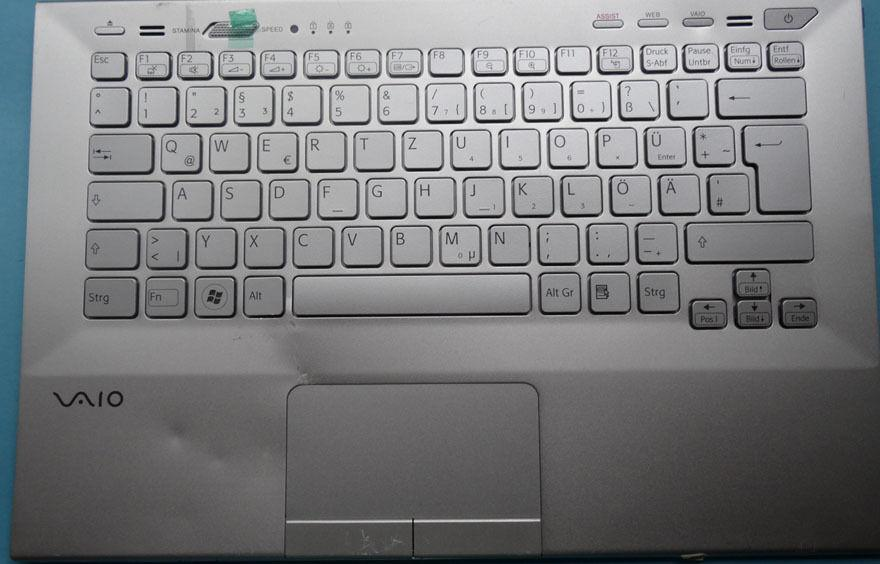0: (567, 76, 609, 117)
1: (134, 83, 175, 123)
2: (182, 82, 224, 123)
3: (229, 82, 271, 122)
4: (278, 81, 319, 122)
5: (326, 81, 367, 121)
6: (374, 80, 415, 120)
7: (423, 80, 465, 120)
8: (470, 79, 512, 119)
9: (518, 77, 560, 119)
a: (168, 177, 210, 218)
accent: (664, 75, 706, 116)
ae: (655, 171, 698, 213)
alt-left: (239, 272, 282, 315)
altgr-right: (536, 269, 580, 312)
b: (386, 222, 429, 264)
c: (289, 223, 331, 265)
caret: (86, 83, 126, 123)
comma: (534, 220, 577, 262)
d: (265, 175, 307, 217)
del: (714, 73, 804, 115)
e: (254, 129, 296, 170)
enter: (739, 121, 809, 210)
f: (314, 175, 356, 217)
g: (362, 174, 404, 216)
h: (411, 174, 452, 215)
hash: (705, 170, 747, 212)
i: (496, 125, 538, 166)
j: (460, 173, 502, 215)
k: (509, 172, 551, 214)
keyboard: (51, 14, 837, 334)
l: (558, 171, 600, 213)
less: (142, 224, 185, 267)
m: (435, 221, 479, 264)
minus: (632, 219, 676, 261)
n: (485, 220, 527, 263)
o: (544, 124, 586, 165)
oe: (606, 171, 649, 213)
p: (592, 123, 635, 165)
plus: (690, 122, 733, 164)
point: (583, 219, 627, 262)
q: (157, 130, 199, 171)
r: (302, 128, 344, 169)
s: (217, 177, 258, 218)
shift-left: (81, 225, 136, 267)
shift-lock: (83, 177, 162, 219)
shift-right: (681, 216, 812, 260)
space: (288, 269, 528, 314)
ss: (615, 76, 657, 117)
strg-left: (78, 273, 135, 316)
strg-right: (634, 268, 678, 311)
t: (351, 127, 391, 168)
tab: (85, 129, 150, 171)
u: (447, 126, 489, 167)
ue: (641, 123, 684, 165)
v: (338, 222, 380, 264)
w: (205, 128, 247, 170)
x: (240, 224, 282, 266)
y: (192, 224, 235, 266)
z: (399, 127, 440, 168)
